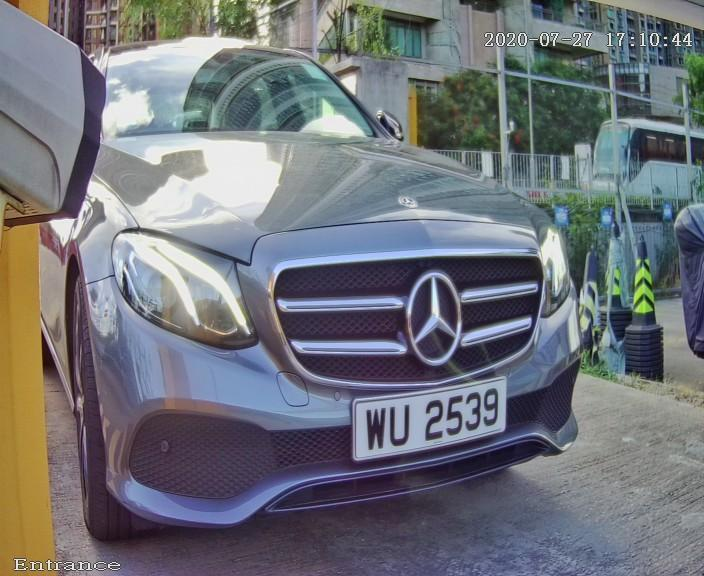privatecar: (23, 13, 635, 548)
